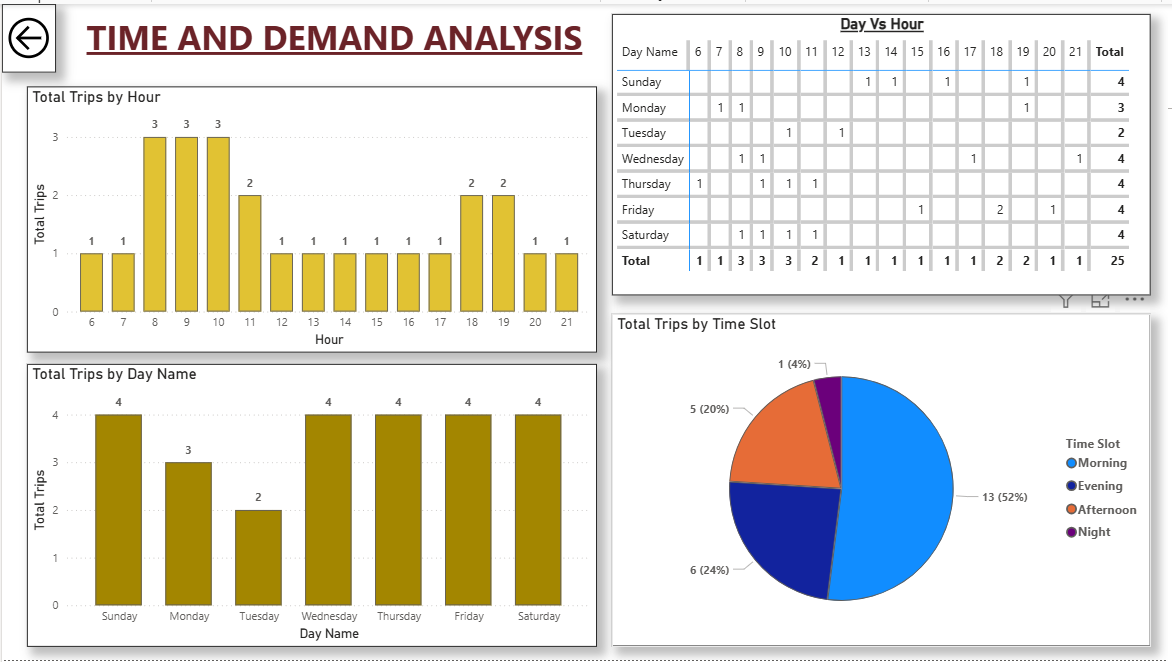

The page's visual inventory and layout, read from the dashboard file:
{"tool":"powerbi","page":{"name":"Page 3","canvas":[1280,720],"ordinal":2},"visuals":[{"type":"textbox","box":[87.8,5.5,565.4,64.5],"z":0},{"type":"columnChart","fields":{"Category":["trips.Hour"],"Y":["trips.Total Trips"]},"box":[27.4,90.6,625.7,292.3],"z":1000},{"type":"columnChart","fields":{"Category":["trips.Day Name"],"Y":["trips.Total Trips"]},"box":[27.4,395.2,625.7,310.1],"z":2000},{"type":"pieChart","fields":{"Category":["trips.Time Slot"],"Y":["trips.Total Trips"]},"box":[669.6,340.3,591.4,365],"z":3000},{"type":"pivotTable","title":"Day Vs Hour","fields":{"Rows":["trips.Day Name"],"Columns":["trips.Hour"],"Values":["trips.Total Trips"]},"box":[669.6,11,591.4,308.7],"z":4000},{"type":"actionButton","box":[0,0,59,75.5],"z":4001}]}

Visuals, with their boxes in screenshot pixels (x1, y1, x2, y2), scaled from the page's 1280x720 canvas onto the 1172x662 screenshot:
textbox: bbox(80, 5, 598, 64)
columnChart - trips.Hour x trips.Total Trips: bbox(25, 83, 598, 352)
columnChart - trips.Day Name x trips.Total Trips: bbox(25, 363, 598, 648)
pieChart - trips.Time Slot x trips.Total Trips: bbox(613, 313, 1155, 648)
"Day Vs Hour" pivotTable: bbox(613, 10, 1155, 294)
actionButton: bbox(0, 0, 54, 69)
